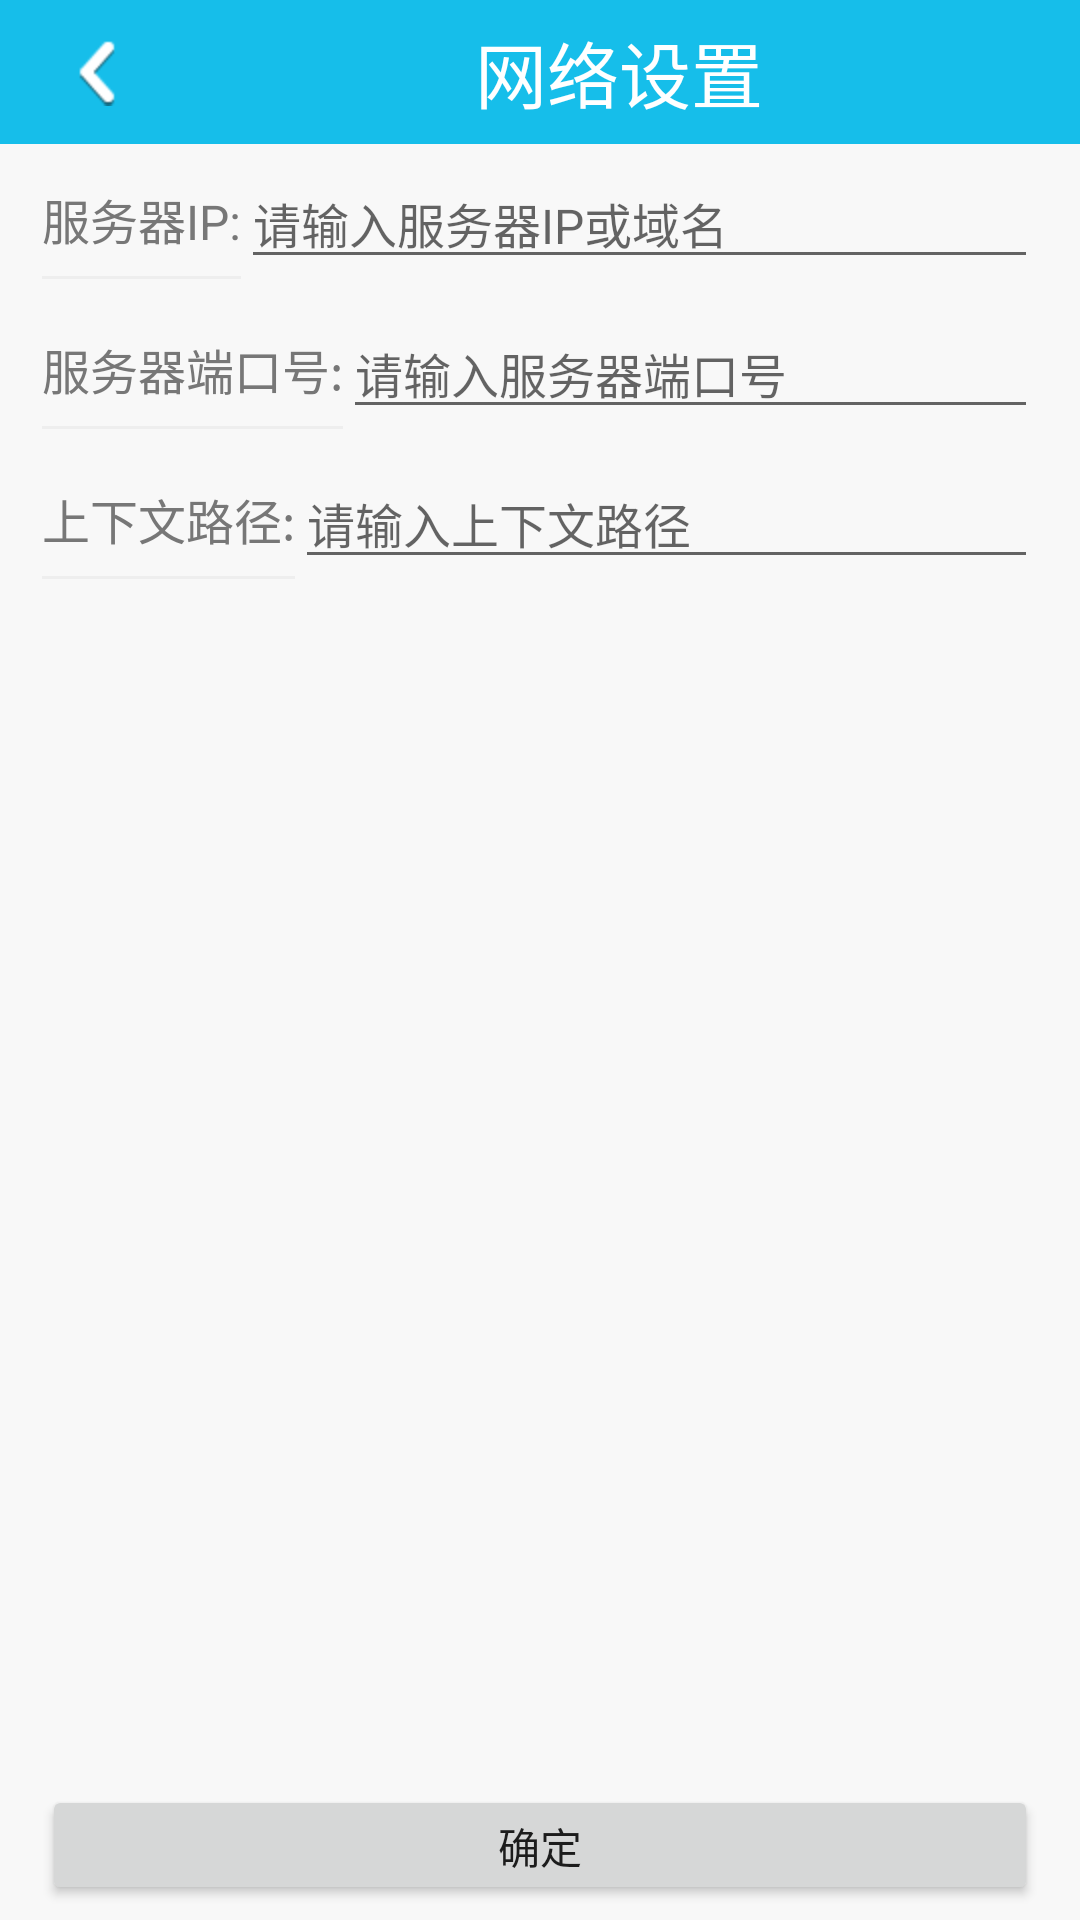

Named icons in this screenshot (1080×1920) and their centers, [x,y]:
返回: [97,73]
